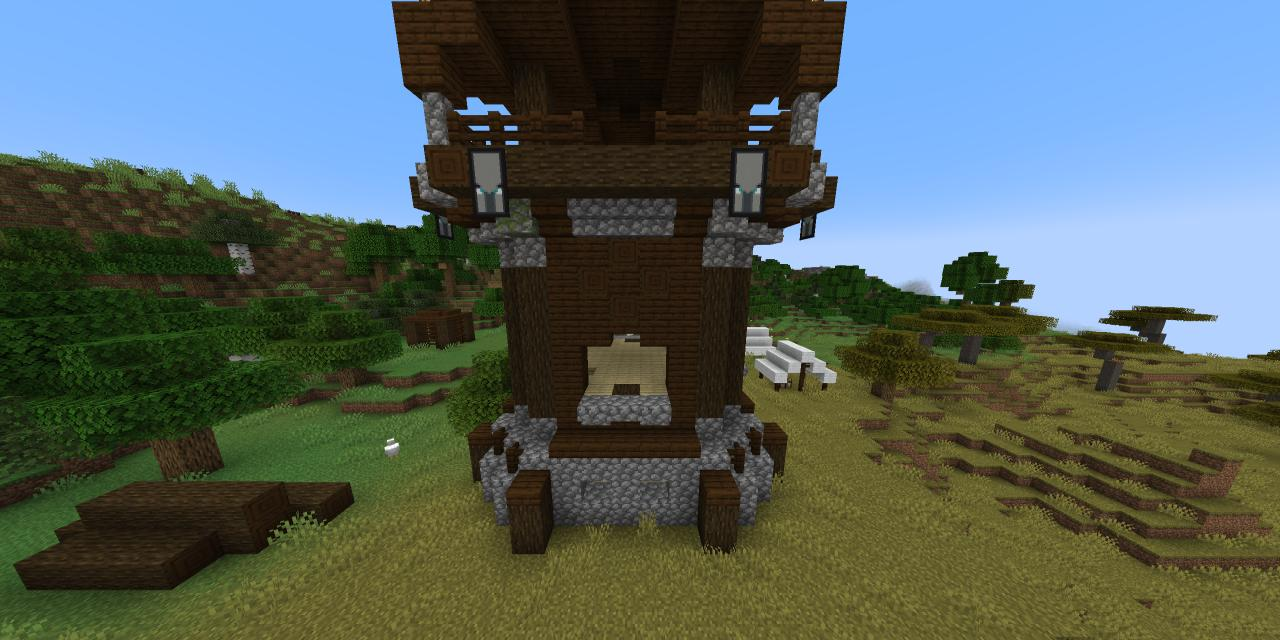pillager outpost: (384, 0, 850, 577)
